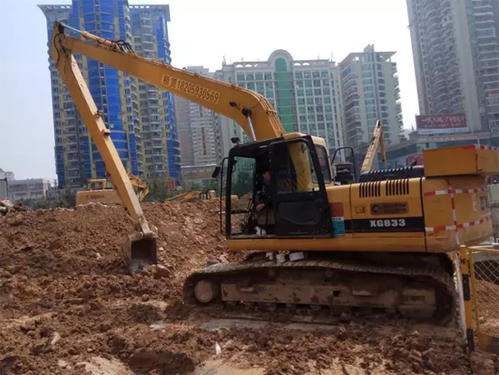excavator: (49, 9, 499, 342)
